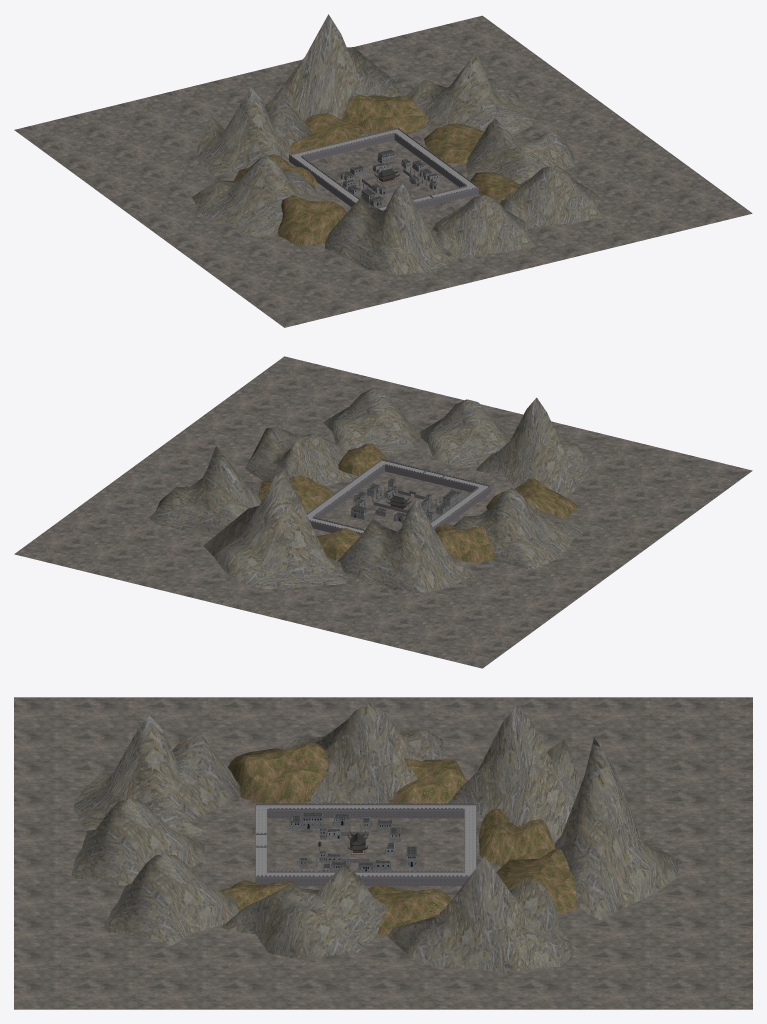
File: map.fbx
The picture shows the model from 3 angles, top to bottom: view 1: azimuth 30°, elevation 25°; view 2: azimuth 150°, elevation 25°; view 3: azimuth 270°, elevation 25°; orthographic projection. The views are drawn at different scales.
Visible parts, largest first — view 1: map_junyin; view 2: map_junyin; view 3: map_junyin.
Boxes of the visible parts, x1,y1,x2,y2 form: map_junyin: [14, 14, 752, 327]; map_junyin: [14, 356, 752, 668]; map_junyin: [14, 697, 752, 1009].
Bounding box in the file's own units: 398 × 78.34 × 398.
Materials: 11 (10 with a texture image).
